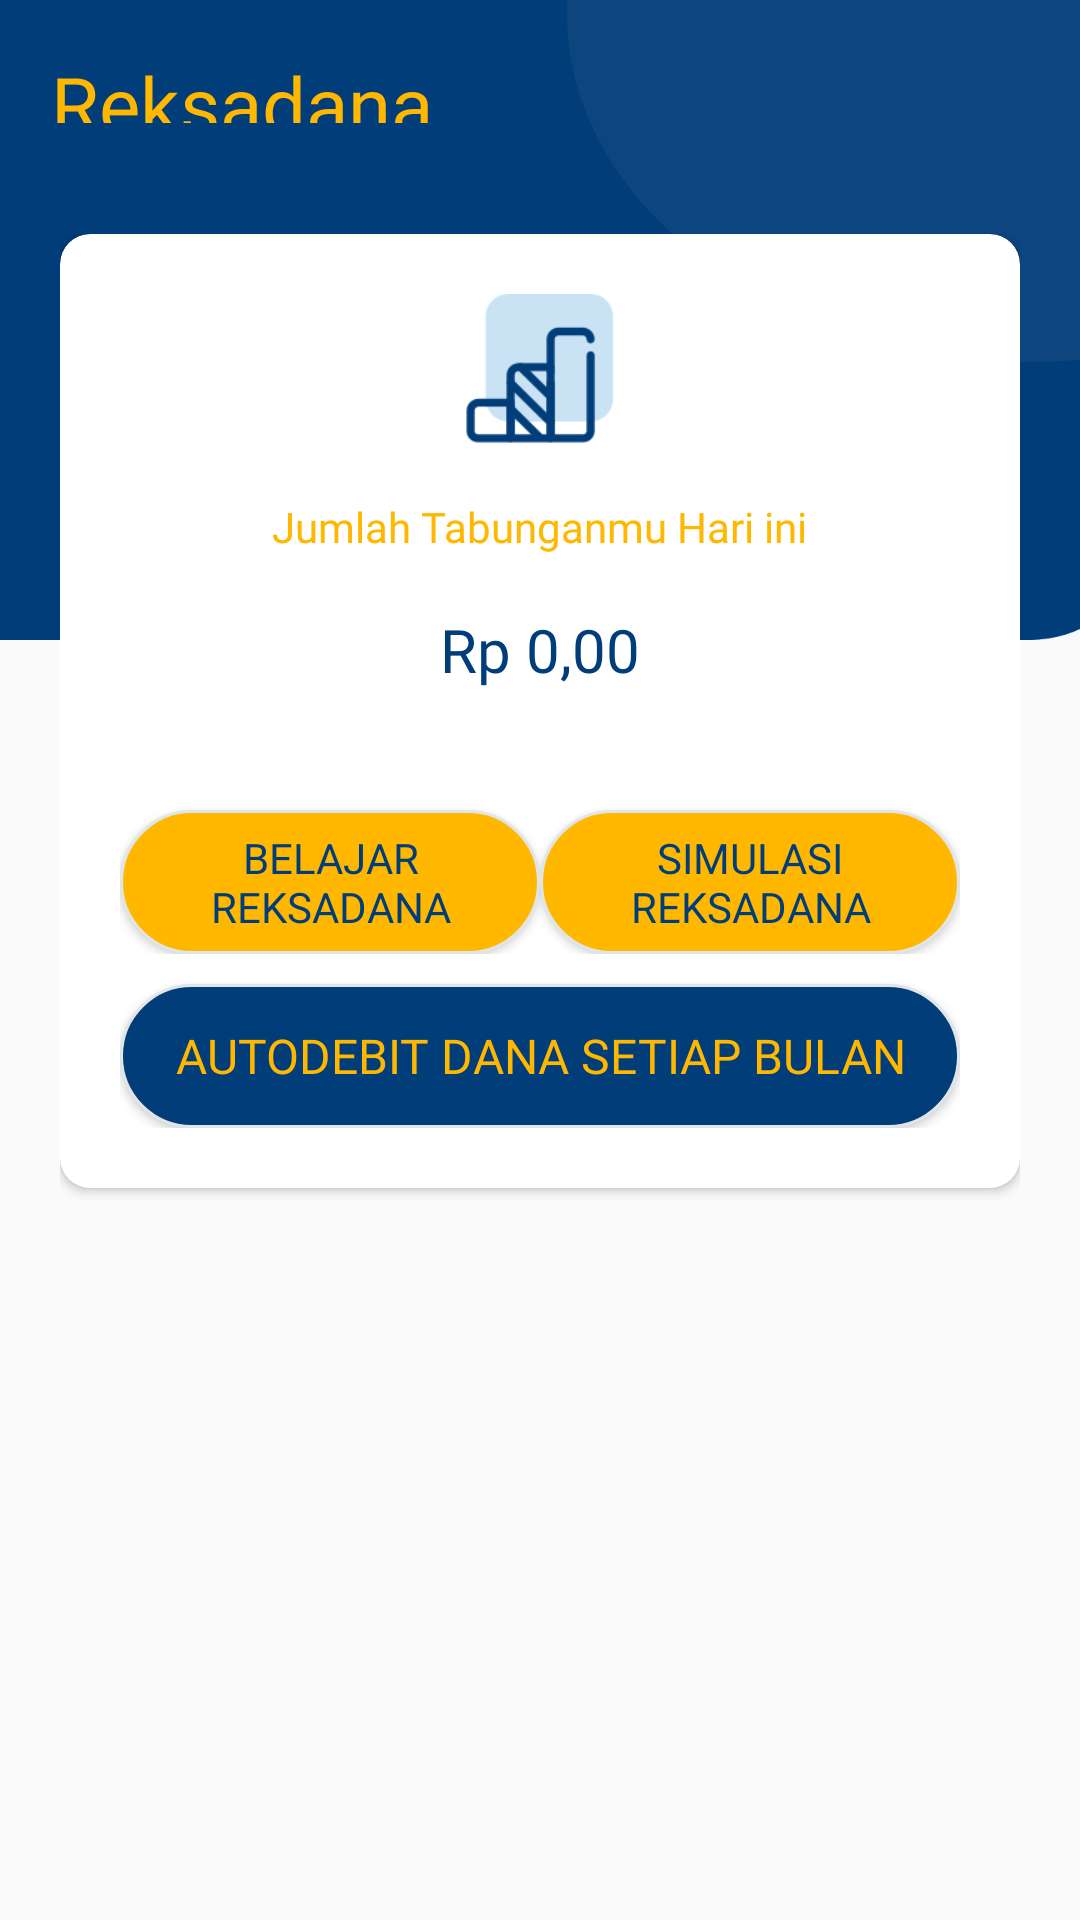

Screen size 1080px×1920px. Icon name, then its box in pixels as detection(x1, y1, x2, y2):
statistic: detection(466, 294, 613, 443)
